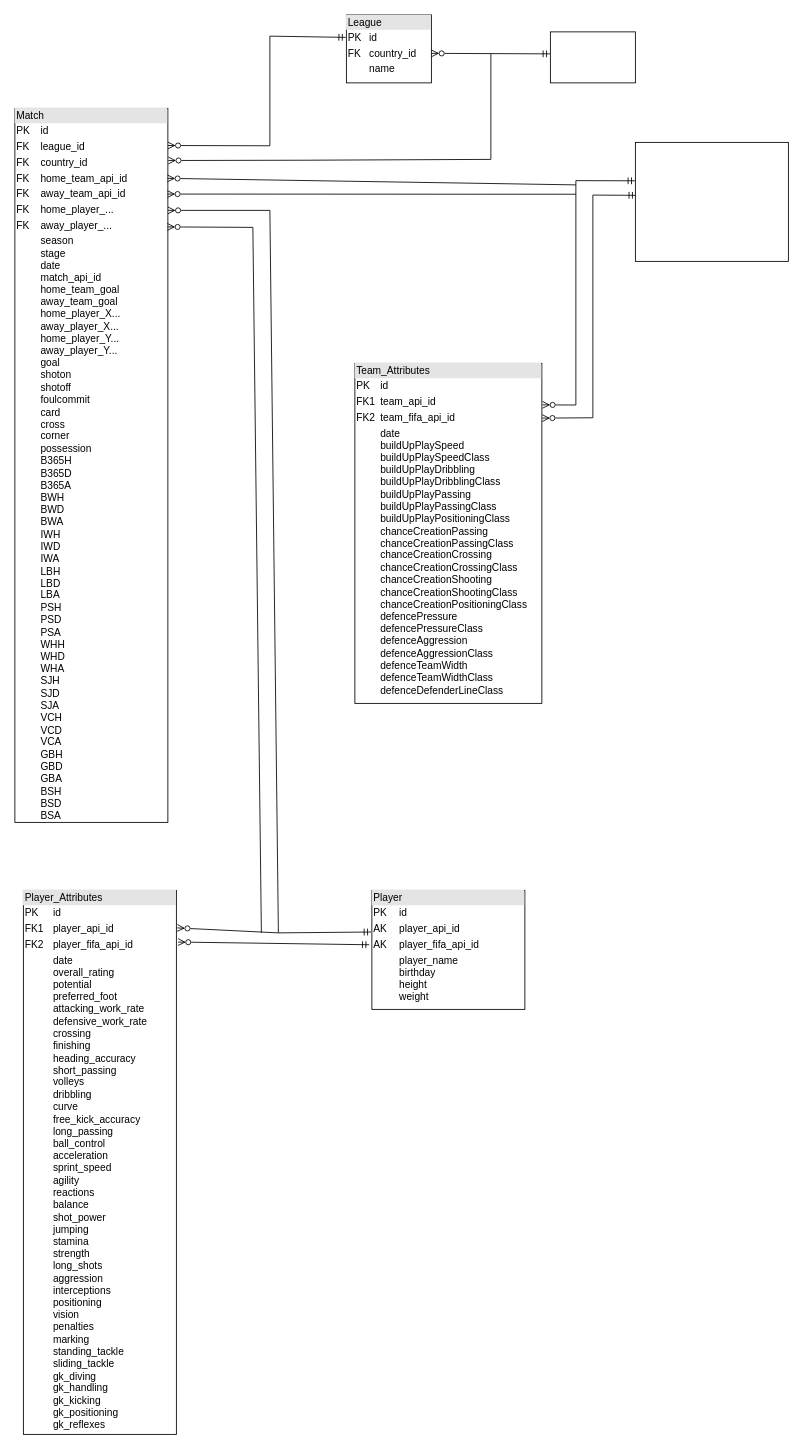
Image size: 803x1449. Some labels were removed from this diagram. Each missing label, with the centre of its shape:
"Country PK id name" belongs at (x=592, y=57).
"Team PK id AK team_api_id AK team_fifa_api_id team_long_name team_short_name" belongs at (x=711, y=201).
